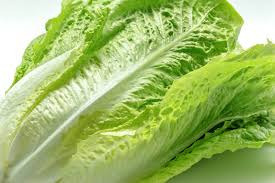Lettuce: (1, 2, 275, 181)
